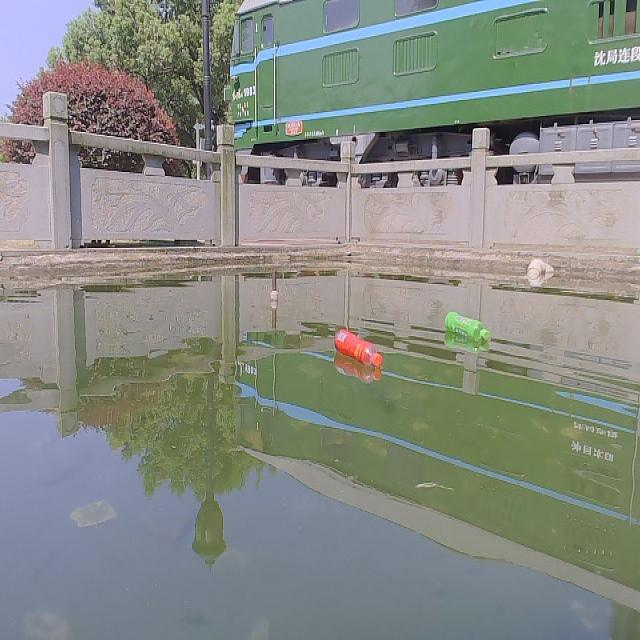Bottle: (331, 325, 384, 371), (441, 308, 490, 343)
